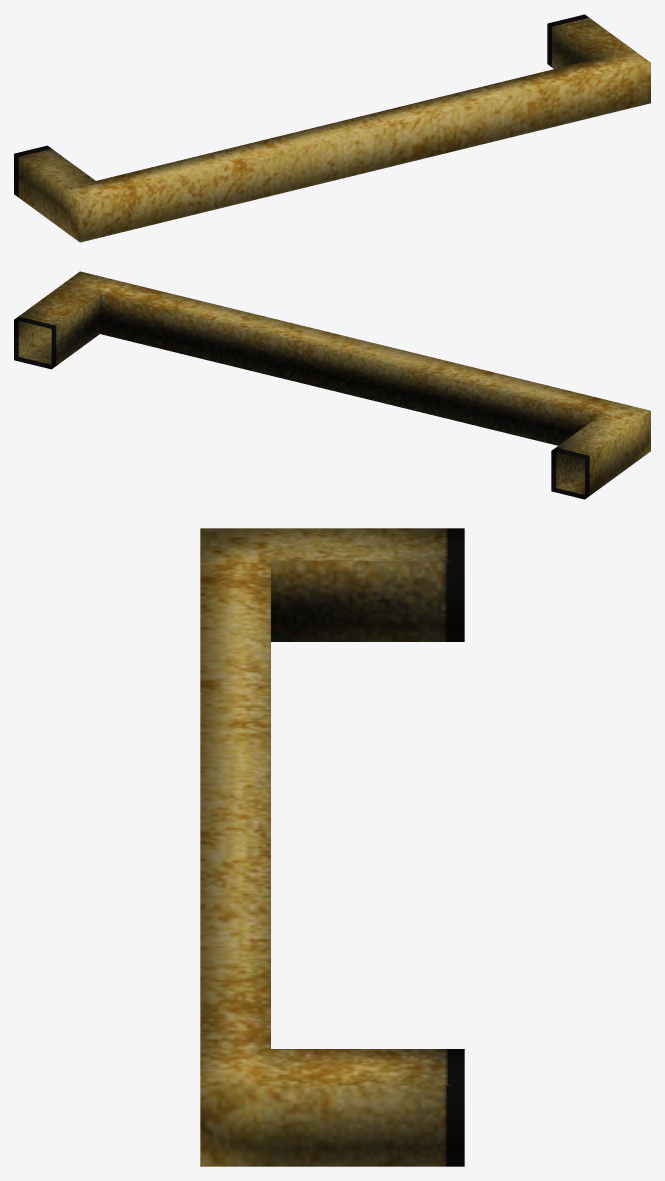
The model's file is DrawerHandle.fbx.
3 renders of one model, top to bottom at view 1: azimuth 30°, elevation 25°; view 2: azimuth 150°, elevation 25°; view 3: azimuth 270°, elevation 25°, orthographic. The views are drawn at different scales.
Parts seen in each view (by area): view 1: polySurface224; view 2: polySurface224; view 3: polySurface224.
Boxes of the visible parts, bbox=[...] form: polySurface224: bbox=[14, 14, 650, 242]; polySurface224: bbox=[14, 271, 650, 499]; polySurface224: bbox=[200, 528, 464, 1166].
Bounding box in the file's own units: 1.71 × 0.1162 × 0.3433.
